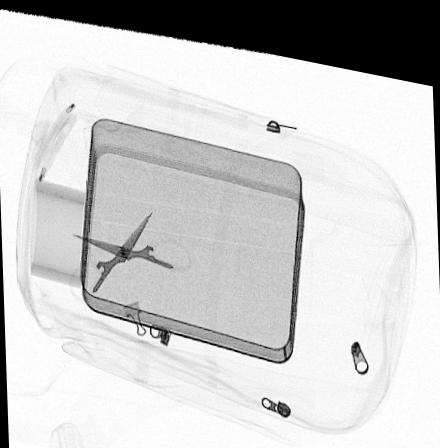Scissors: (67, 202, 195, 302)
